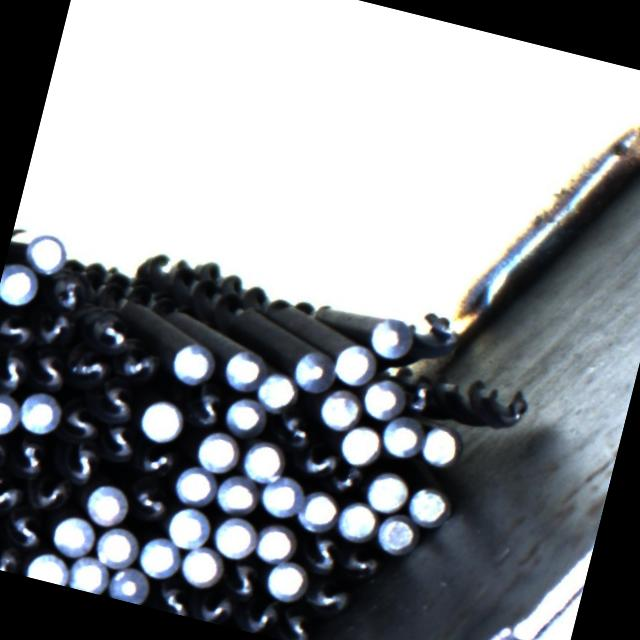tool: (326, 336, 379, 388), (160, 501, 214, 552), (192, 426, 244, 478), (237, 434, 289, 485), (254, 471, 306, 522), (286, 343, 338, 394), (81, 478, 132, 530), (136, 394, 187, 445), (208, 512, 260, 562), (360, 372, 410, 424), (217, 344, 267, 396), (361, 466, 412, 516), (402, 480, 453, 530), (49, 510, 100, 560), (252, 365, 302, 415), (92, 521, 142, 571), (14, 388, 64, 438), (166, 338, 216, 388), (210, 468, 260, 517), (334, 418, 383, 468), (20, 229, 70, 277), (168, 460, 218, 508), (134, 532, 182, 581), (364, 312, 414, 359), (372, 508, 420, 556), (176, 542, 224, 590), (250, 518, 298, 566), (220, 391, 268, 439), (332, 496, 380, 544), (314, 385, 362, 433), (416, 419, 463, 468), (377, 414, 425, 461), (294, 487, 341, 534), (261, 556, 308, 603), (64, 551, 112, 596), (104, 562, 151, 606), (0, 260, 41, 308), (24, 545, 72, 586), (0, 390, 22, 439)
tool_b: (442, 374, 532, 435), (408, 306, 465, 368), (51, 439, 107, 489), (22, 470, 76, 520), (0, 500, 51, 552), (299, 573, 354, 621), (23, 346, 74, 396), (296, 529, 344, 580), (334, 539, 386, 586), (234, 592, 284, 638), (46, 270, 92, 318), (115, 342, 163, 387), (223, 558, 268, 606), (268, 408, 316, 453), (399, 374, 444, 422), (62, 344, 111, 388), (56, 398, 102, 444), (94, 418, 140, 464), (126, 478, 170, 526), (8, 437, 52, 484), (31, 308, 76, 353), (86, 308, 133, 351), (271, 602, 322, 640), (96, 380, 138, 426), (134, 438, 178, 481), (326, 456, 369, 499), (186, 386, 228, 430), (296, 441, 340, 482), (190, 590, 235, 627), (0, 304, 36, 349), (0, 343, 31, 394), (157, 581, 194, 617), (0, 472, 24, 515), (0, 540, 25, 575), (0, 431, 9, 478)
